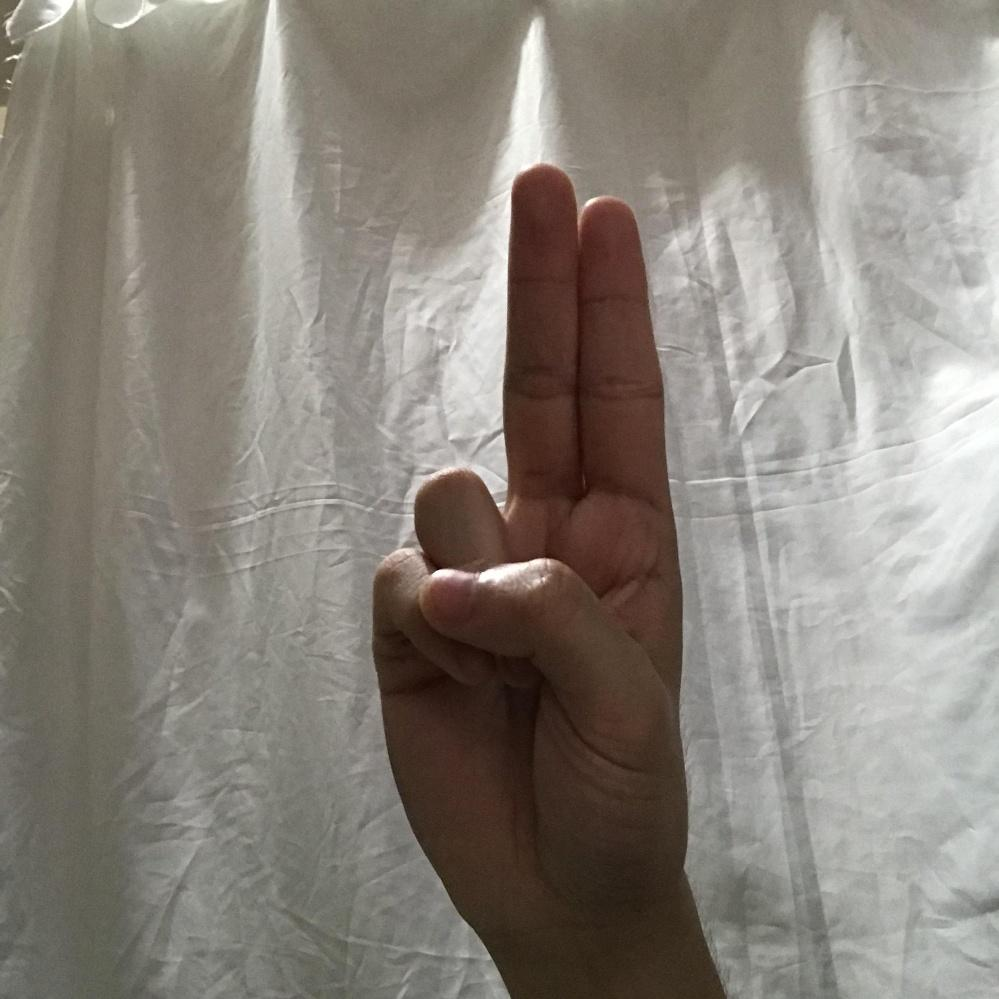u: (366, 164, 686, 894)
